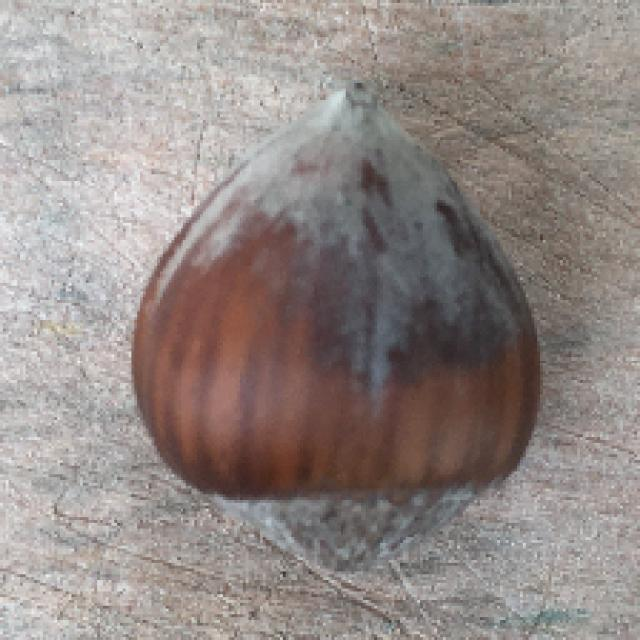damagedHazelnut: (133, 78, 542, 576)
